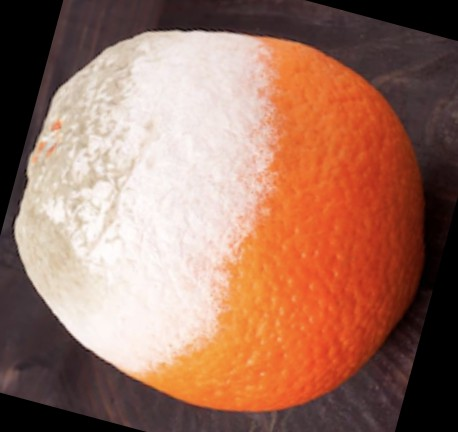rotten_orange: (14, 32, 418, 412)
